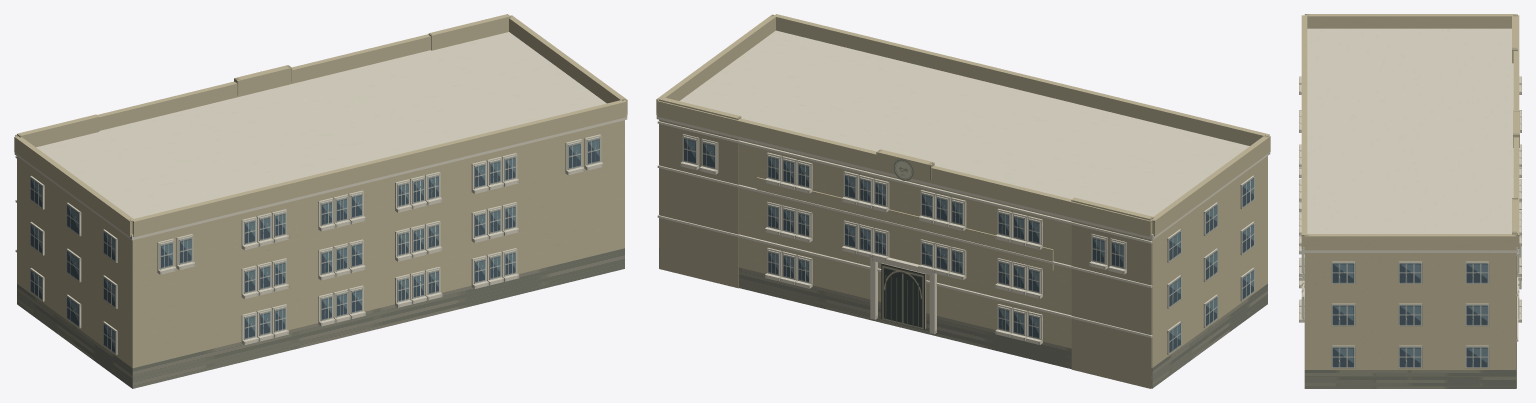
The model's file is SM_QD_School_HistoricSouthMotto.fbx.
3 views of the same model, side by side, from view 1: azimuth 30°, elevation 25°; view 2: azimuth 150°, elevation 25°; view 3: azimuth 270°, elevation 25° (orthographic). The views are drawn at different scales.
Visible parts, largest first — view 1: SM_QD_School_HistoricSouthMotto; view 2: SM_QD_School_HistoricSouthMotto; view 3: SM_QD_School_HistoricSouthMotto.
Part boxes in pixels (<box>): SM_QD_School_HistoricSouthMotto: <box>14,14,627,388</box>; SM_QD_School_HistoricSouthMotto: <box>656,14,1270,388</box>; SM_QD_School_HistoricSouthMotto: <box>1299,14,1521,388</box>.
Size of the model in its own units: 14.15 by 6 by 4.65.
